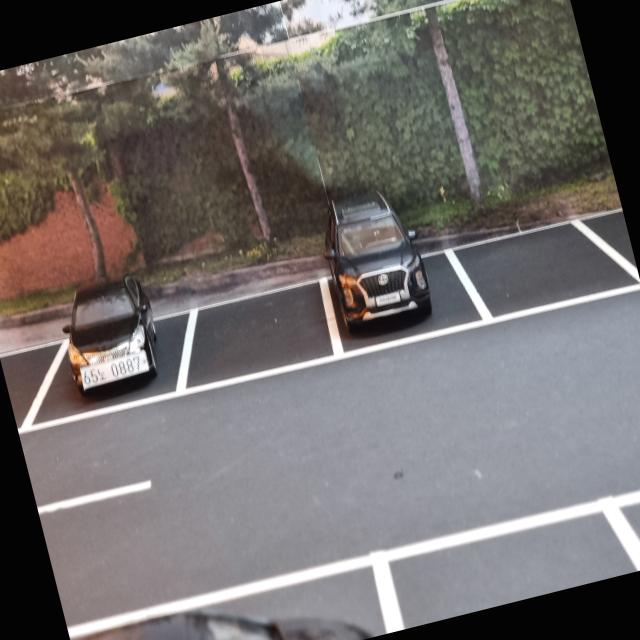car: (309, 174, 442, 342), (50, 261, 166, 396)
free: (449, 206, 640, 335), (160, 272, 346, 392)
